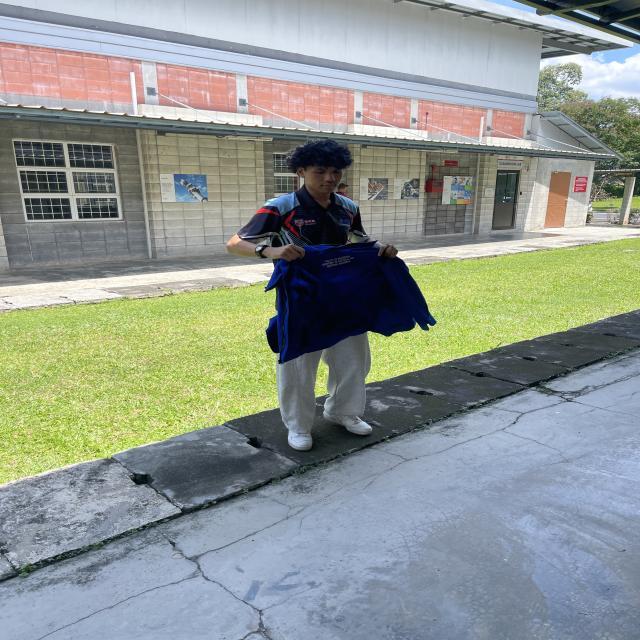person_without_labcoat: (227, 139, 435, 451)
